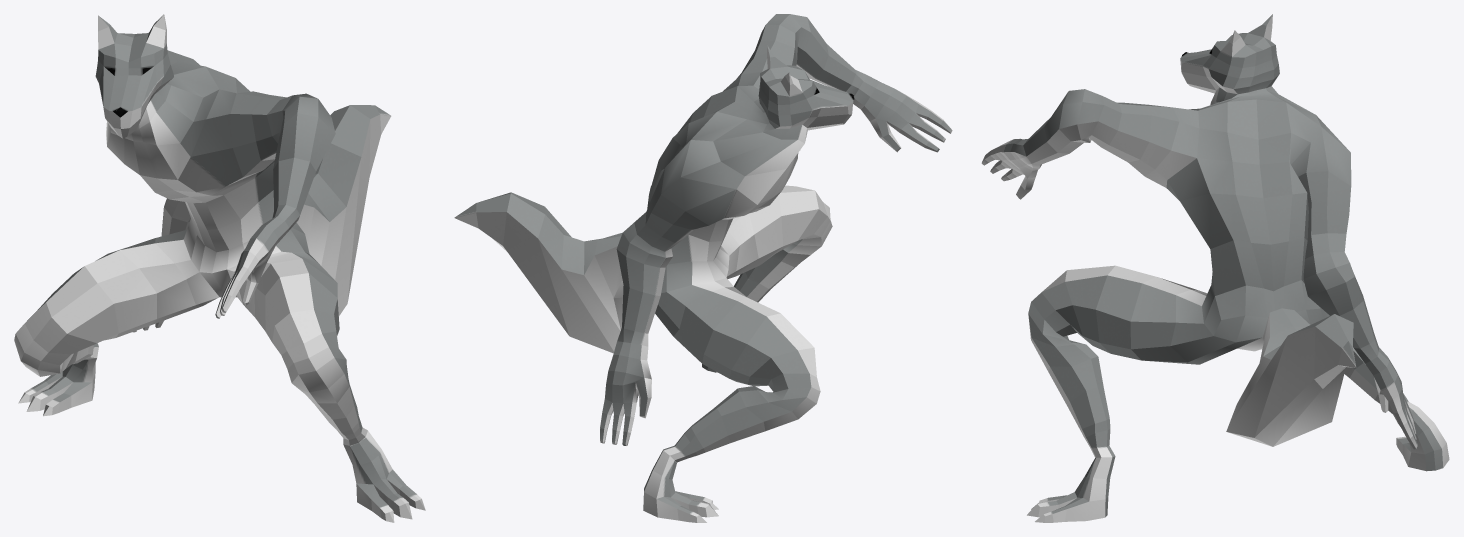
Rendered from WolfAttack(22).obj.
The picture shows the model from 3 angles, left to right: view 1: azimuth 30°, elevation 25°; view 2: azimuth 150°, elevation 25°; view 3: azimuth 270°, elevation 25°; orthographic projection. The views are drawn at different scales.
Parts seen in each view (by area): view 1: Box001; view 2: Box001; view 3: Box001.
Part boxes in pixels (x1,y1,x2,y2): Box001: [14, 14, 425, 522]; Box001: [454, 14, 952, 522]; Box001: [981, 14, 1449, 522].
Size of the model in its own units: 100 by 112 by 111.
